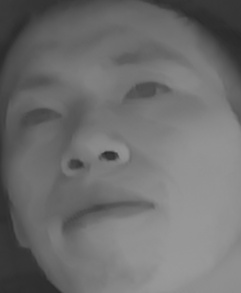eye: (15, 97, 70, 137), (123, 70, 178, 108)
mouth: (55, 186, 162, 240)
